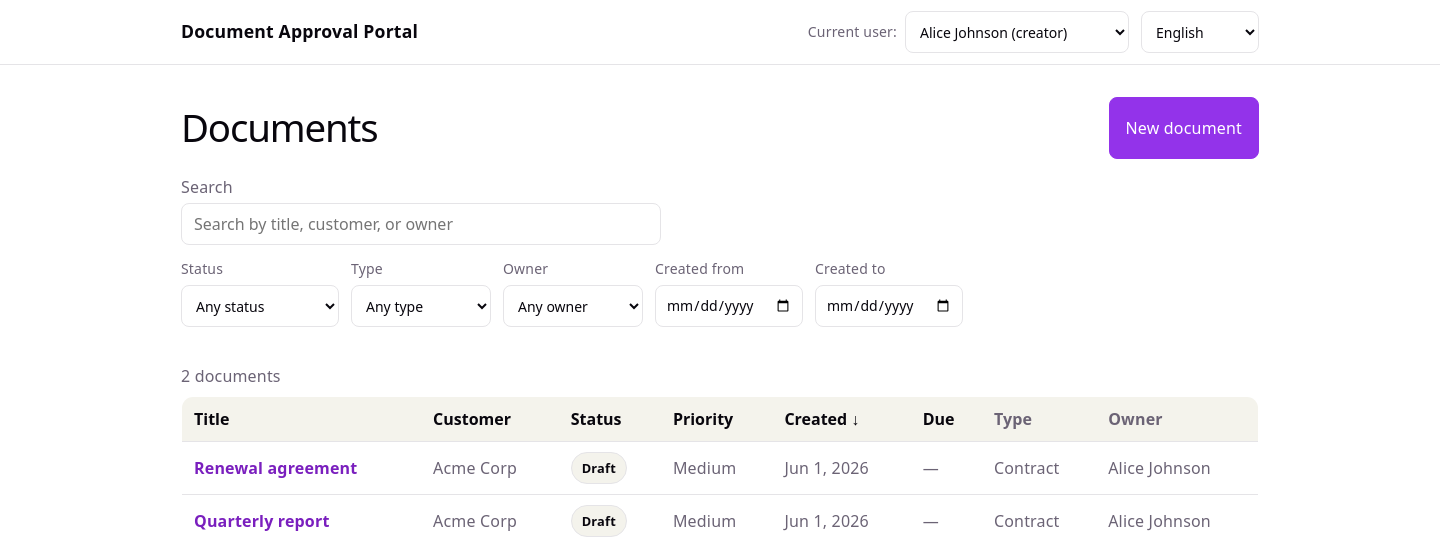
Test: document list › narrows results when searching and shows the filtered empty state
Expected: the link "Renewal agreement" is shown, [194, 457, 357, 479]
Type "renewal" into the search field at point(421, 224), box [181, 203, 661, 245]
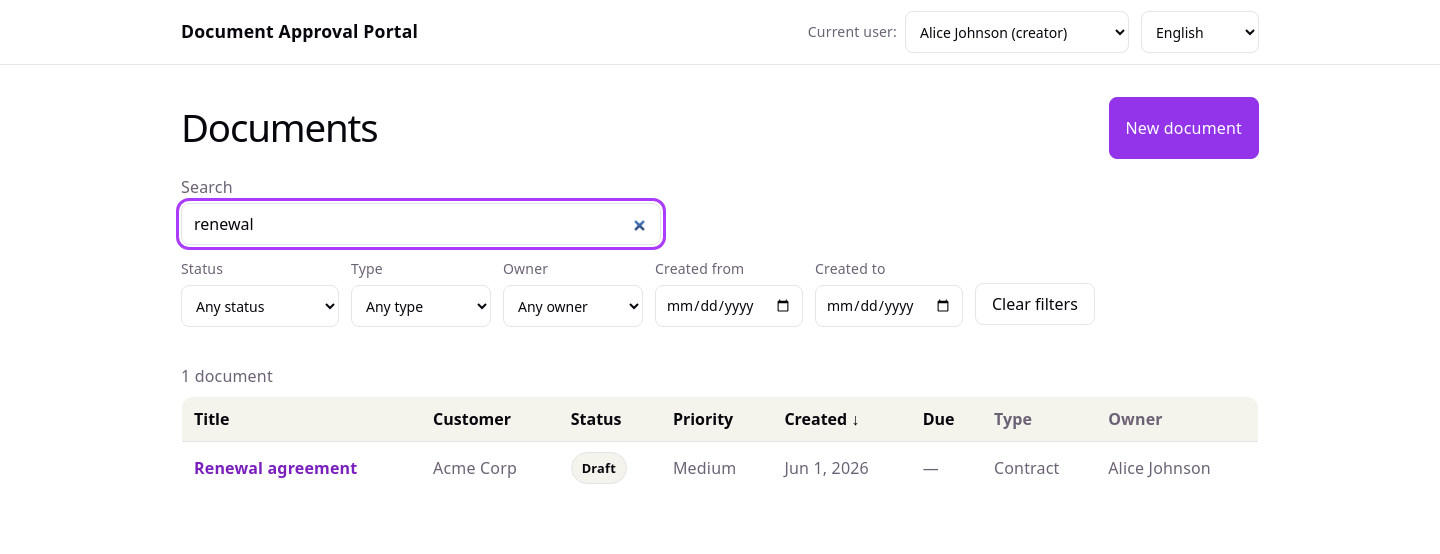
Expected: the link "Renewal agreement" is shown, [194, 457, 357, 479]
Expected: the link "Quarterly report" is gone
Replace the text in the search field with "zzz-no-match" at point(421, 224), box [181, 203, 661, 245]
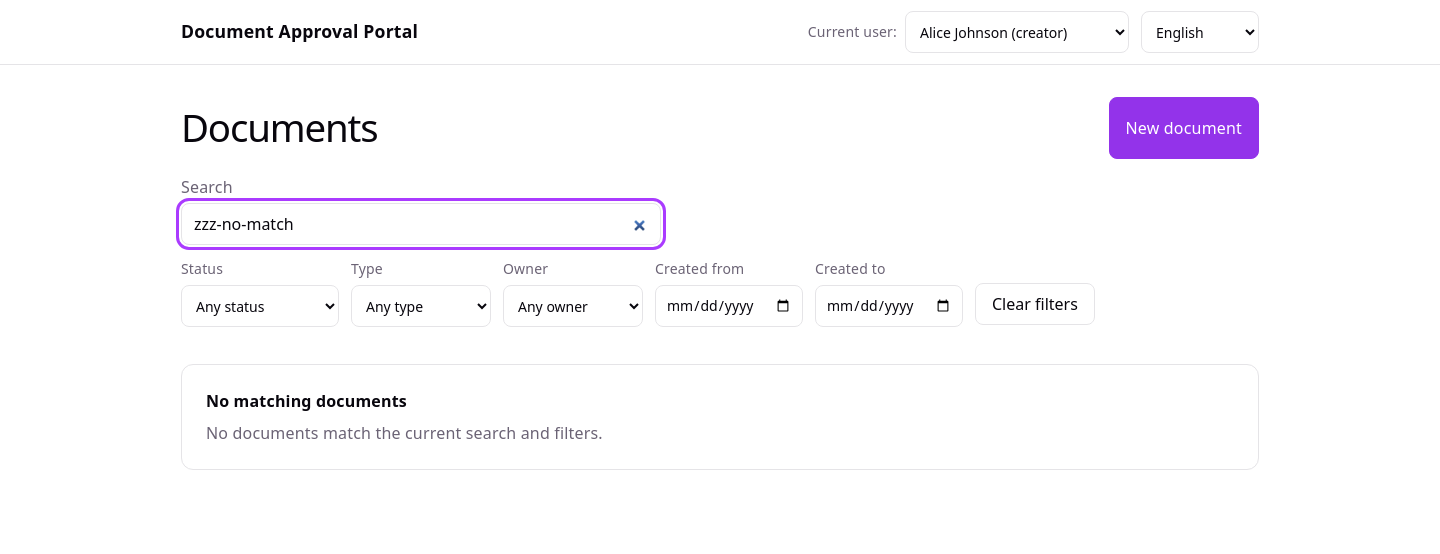
Expected: the text "No matching documents" is shown, [206, 389, 407, 413]
